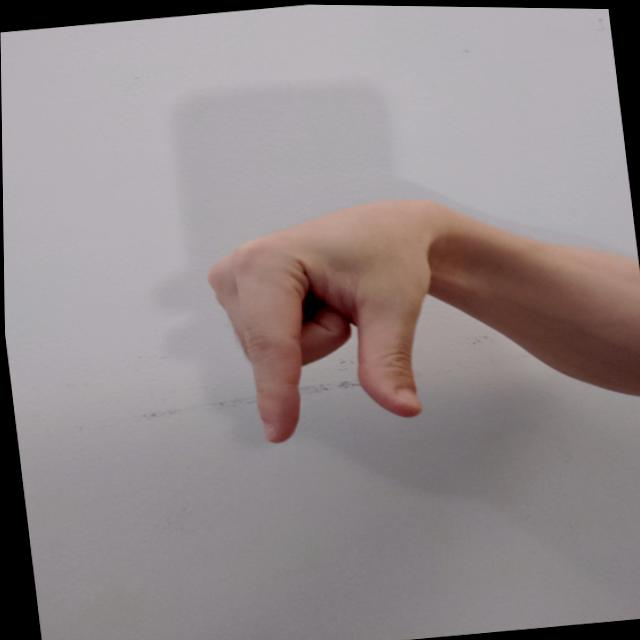Q: (188, 187, 459, 457)
